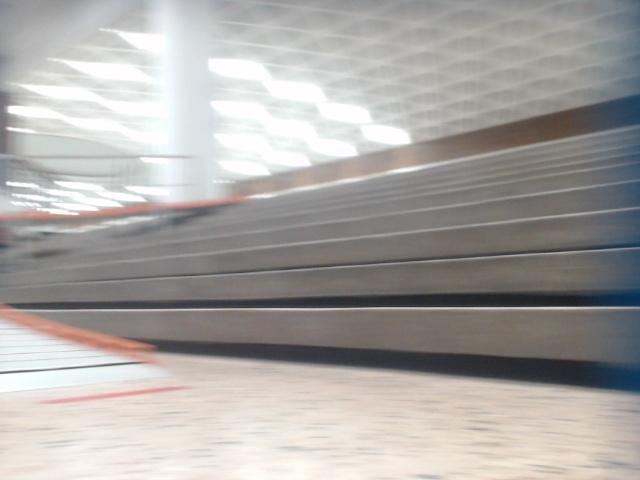rampUp: (0, 305, 181, 407), (1, 191, 249, 224)
ramps-railing: (0, 152, 209, 166)
